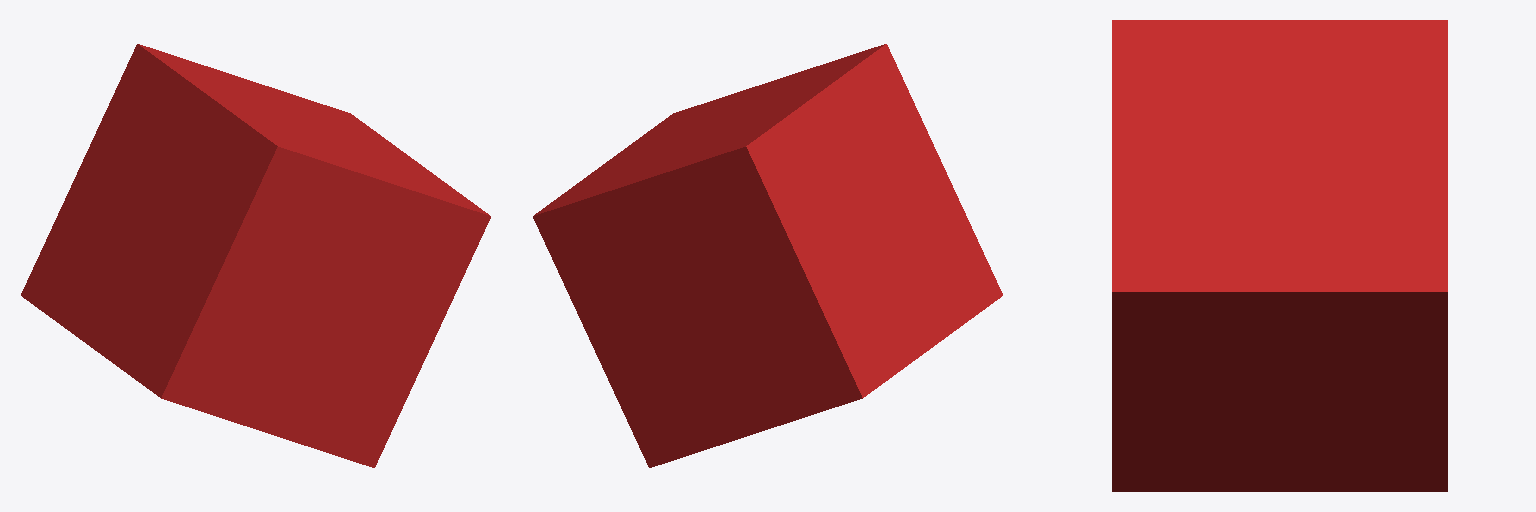
URDF robot description (my_box):
<robot name="my_box">
  <link name="box_link">
    <!-- Inertial properties (mass, inertia) -->
    <inertial>
      <mass value="5.0"/> <!-- Mass in kg -->
      <origin xyz="0 0 0" rpy="0 0 0"/> <!-- Position of the inertial frame -->
      <inertia ixx="0.4167" ixy="0.0" ixz="0.0" iyy="0.4167" iyz="0.0" izz="0.4167"/> <!-- Adjusted for a 1m x 1m x 1m box -->
    </inertial>
    
    <!-- Collision properties for physics -->
    <collision>
      <origin xyz="0 0 0" rpy="0 0 0"/>
      <geometry>
        <box size="1 1 1"/> <!-- Dimensions: length x width x height in meters -->
      </geometry>
    </collision>
    
    <!-- Visual properties for rendering -->
    <visual>
      <origin xyz="0 0 20" rpy="0 0.5 0"/>
      <geometry>
        <box size="1 1 1"/> <!-- Same size as the collision box -->
      </geometry>
      <material name="Red">
        <color rgba="0.8 0.2 0.2 1.0"/> <!-- Red box with full opacity -->
      </material>
    </visual>
    
    <!-- Optional: Gazebo-specific parameters -->
    <gazebo>
      <mu1>0.5</mu1> <!-- Friction coefficient in one direction -->
      <mu2>0.5</mu2> <!-- Friction coefficient in the other direction -->
      <restitution_coefficient>0.1</restitution_coefficient> <!-- Bounciness -->
      <minDepth>0.001</minDepth> <!-- Minimum depth for contact resolution -->
      <restitution_coefficient>0.1</restitution_coefficient> <!-- Bounciness -->
    </gazebo>
  </link>
</robot>

--- What the picture shows (computed from the rendered views, not written in the file) ---
3 views of the same robot in one strip: view 1: azimuth 30°, elevation 25°; view 2: azimuth 150°, elevation 25°; view 3: azimuth 270°, elevation 25° (orthographic).
Model my_box with 1 links and 0 joints (none), rooted at box_link, posed every joint at zero.
Visible links, largest first — view 1: box_link; view 2: box_link; view 3: box_link.
Boxes of the visible links, x1,y1,x2,y2 form: box_link: (21,44,490,467); box_link: (533,44,1002,467); box_link: (1112,20,1447,491).
Size in the robot's own frame: 1.36 by 1 by 1.36 metres.
Geometry: primitives only (box / cylinder / sphere), no mesh files.